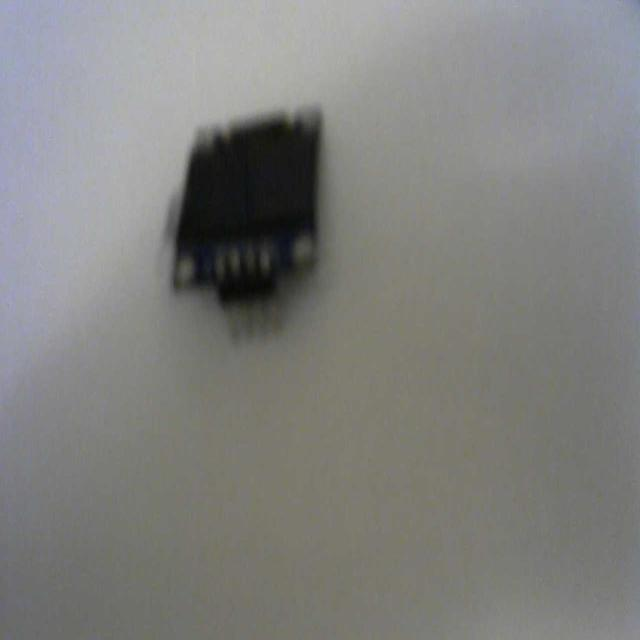oled: (166, 94, 329, 351)
